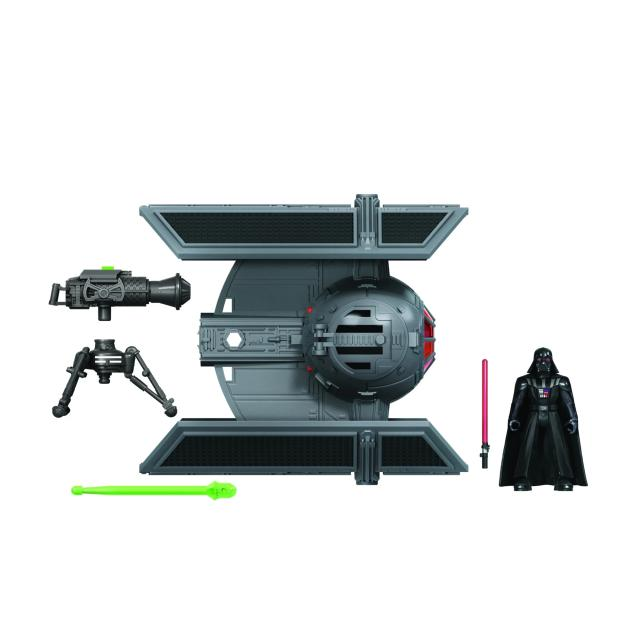tie fighter: (140, 194, 468, 485)
